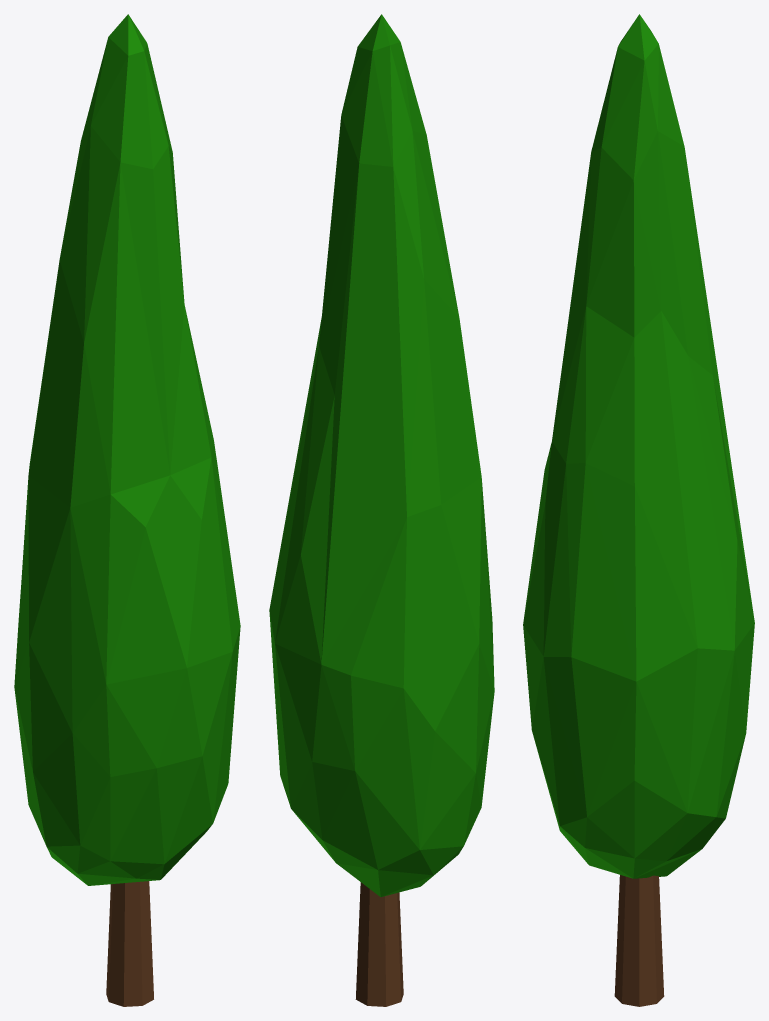
Rendered from cypressTreeA.fbx.
3 renders of one model, left to right at view 1: azimuth 30°, elevation 25°; view 2: azimuth 150°, elevation 25°; view 3: azimuth 270°, elevation 25°, orthographic.
Visible parts, largest first — view 1: cypressTreeA_geo; view 2: cypressTreeA_geo; view 3: cypressTreeA_geo.
Part boxes in pixels (bbox=[...]): cypressTreeA_geo: bbox=[14, 14, 240, 1006]; cypressTreeA_geo: bbox=[269, 14, 494, 1006]; cypressTreeA_geo: bbox=[523, 14, 754, 1006].
Size of the model in its own units: 137 by 657 by 141.
